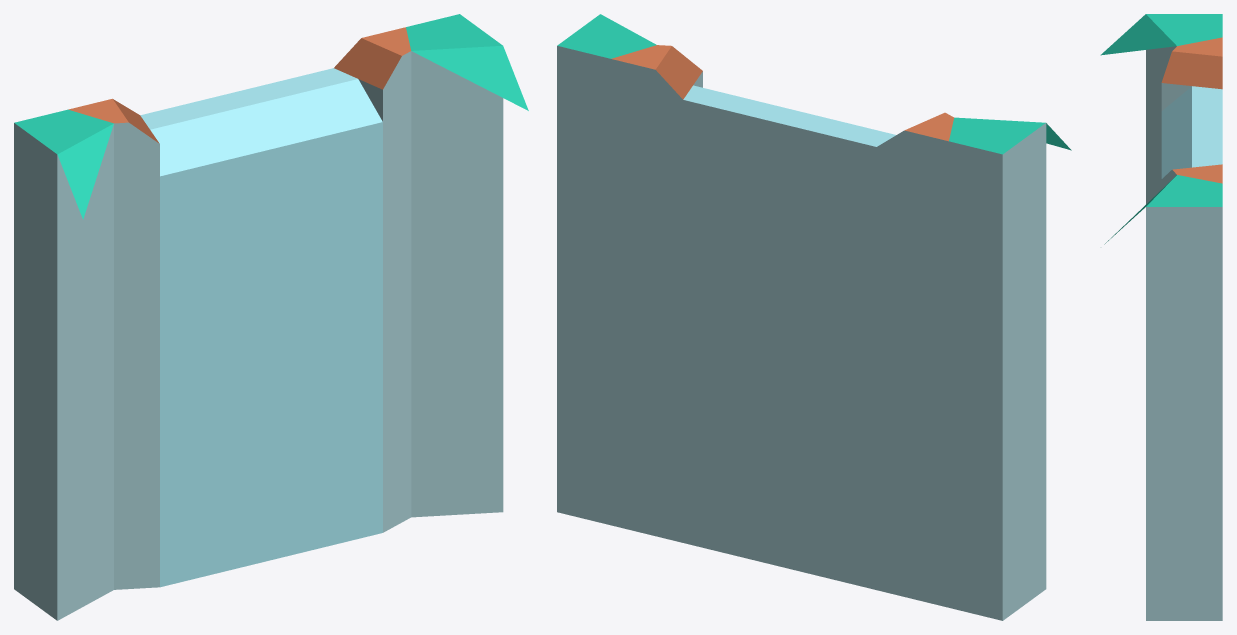
Rendered from cliff_waterfallTop_stone.dae.
3 views of the same model, side by side, from view 1: azimuth 30°, elevation 25°; view 2: azimuth 150°, elevation 25°; view 3: azimuth 270°, elevation 25° (orthographic). The views are drawn at different scales.
Parts seen in each view (by area): view 1: cliff_waterfallTop_stone; view 2: cliff_waterfallTop_stone; view 3: cliff_waterfallTop_stone.
Part boxes in pixels (<box>): cliff_waterfallTop_stone: <box>14,14,528,620</box>; cliff_waterfallTop_stone: <box>557,14,1071,620</box>; cliff_waterfallTop_stone: <box>1100,14,1222,620</box>.
Bounding box in the file's own units: 1 × 1 × 0.2685.
